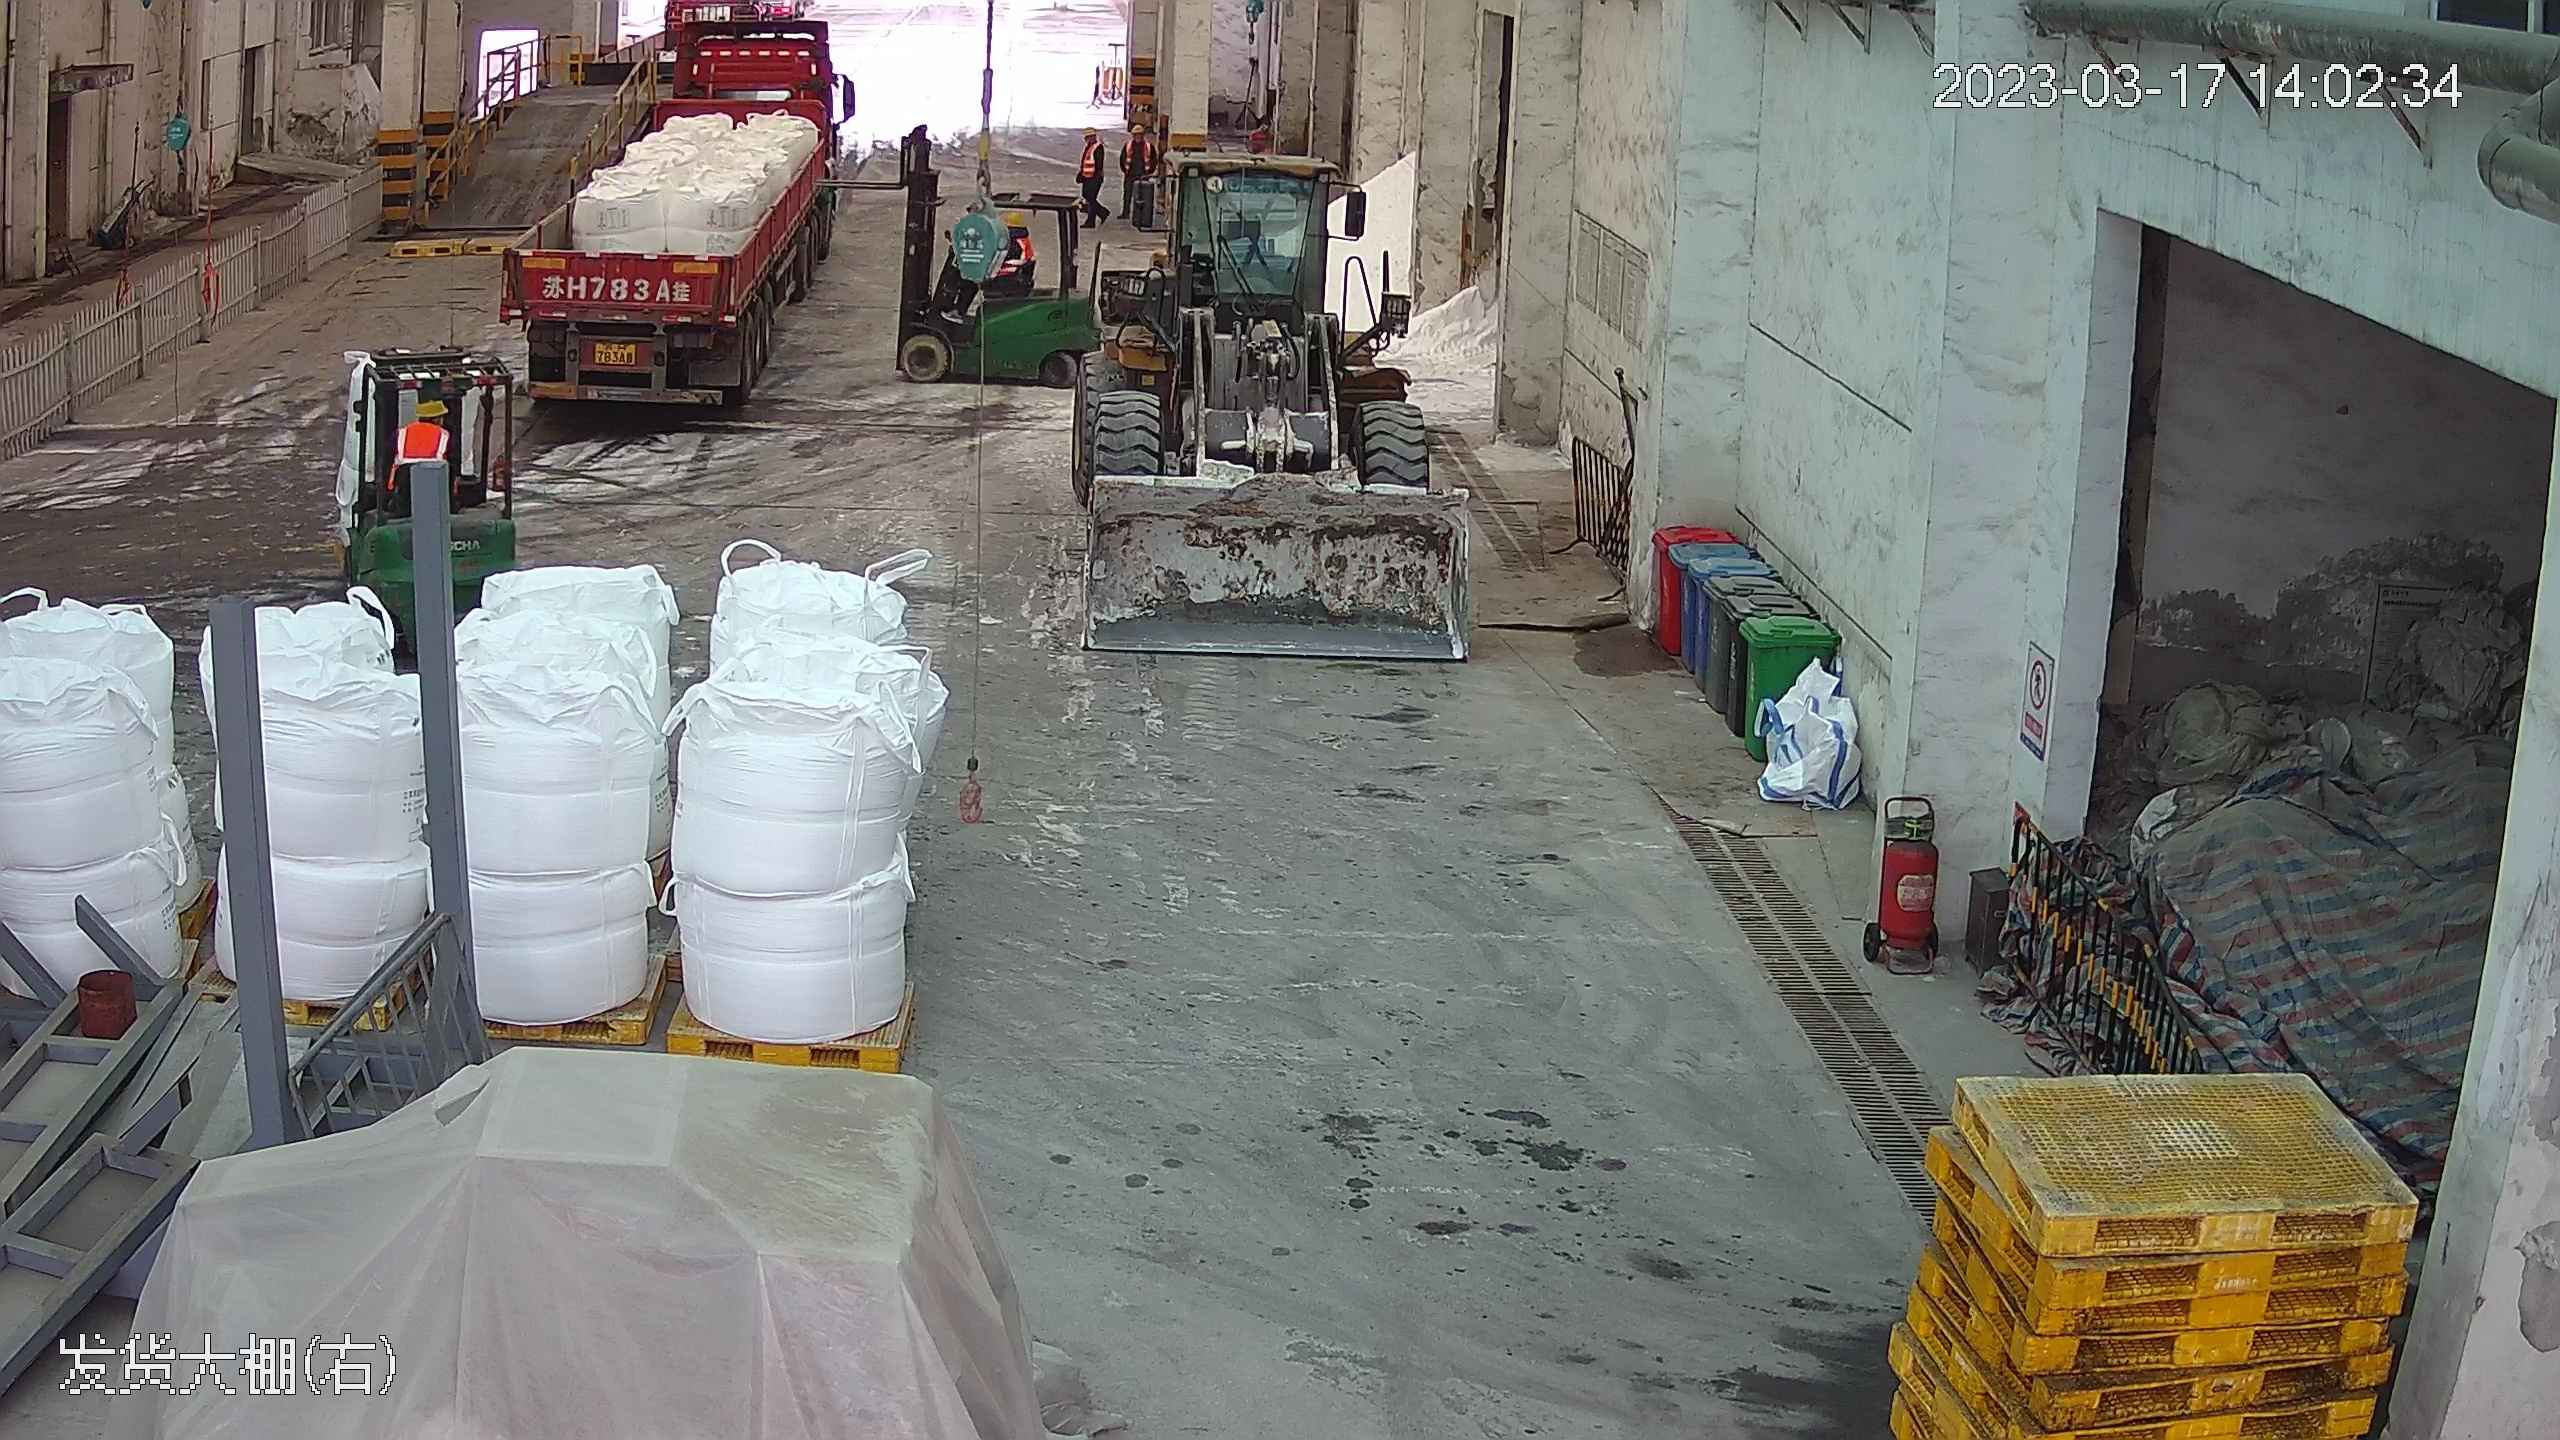head: (394, 391, 455, 460), (993, 209, 1034, 257), (1122, 123, 1152, 157), (1080, 124, 1106, 162)
helmet: (413, 390, 448, 412), (1003, 209, 1026, 229), (1080, 124, 1098, 138), (1130, 125, 1144, 135)
people: (963, 207, 1029, 316), (1116, 120, 1156, 221), (1075, 124, 1112, 230)
truck: (491, 10, 846, 412)
